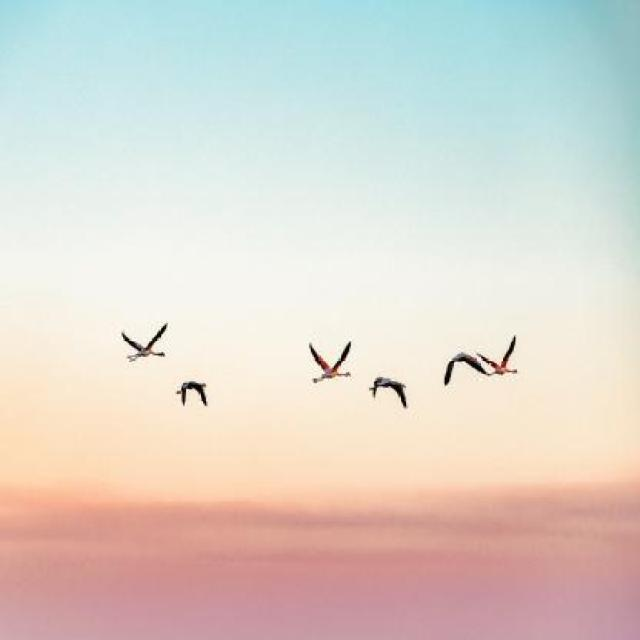bird: (309, 339, 351, 384), (121, 322, 168, 361), (476, 335, 518, 376), (444, 352, 490, 386), (369, 376, 408, 410), (176, 380, 209, 408)
